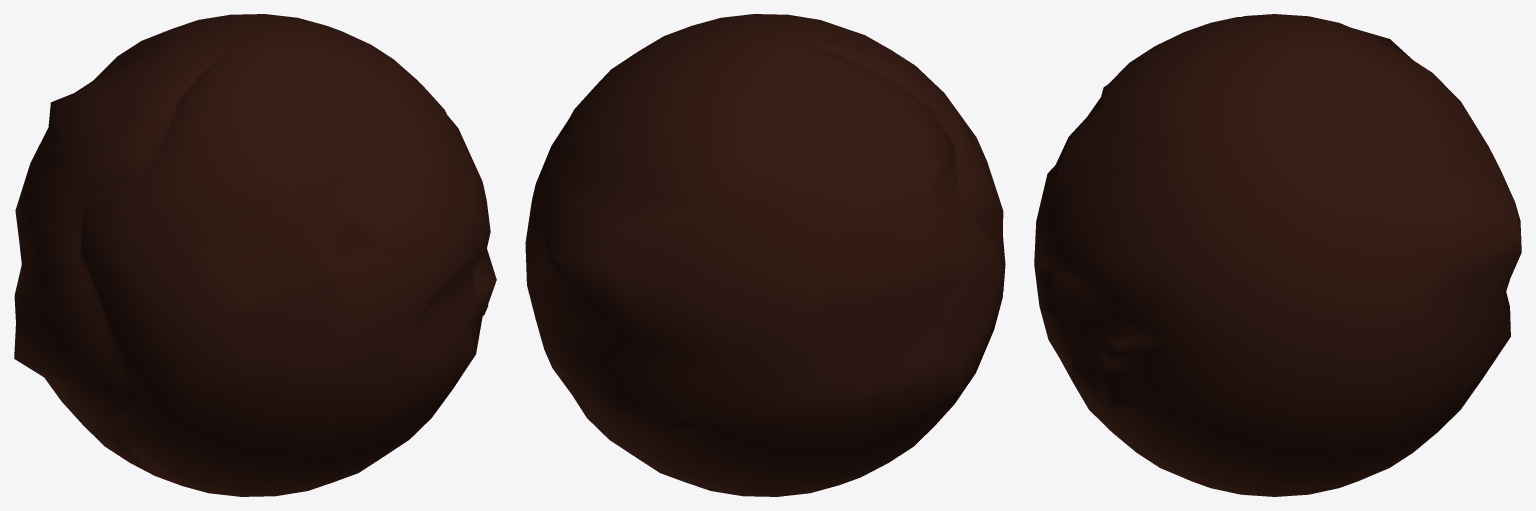
The model's file is Planet.obj.
3 renders of one model, left to right at view 1: azimuth 30°, elevation 25°; view 2: azimuth 150°, elevation 25°; view 3: azimuth 270°, elevation 25°, orthographic.
Visible parts, largest first — view 1: Planet; view 2: Planet; view 3: Planet.
Part boxes in pixels (box(x1,y1,x2,y2)): Planet: box(14, 14, 496, 496); Planet: box(525, 14, 1005, 496); Planet: box(1034, 14, 1521, 496).
Size of the model in its own units: 12.49 by 12.25 by 12.36.
